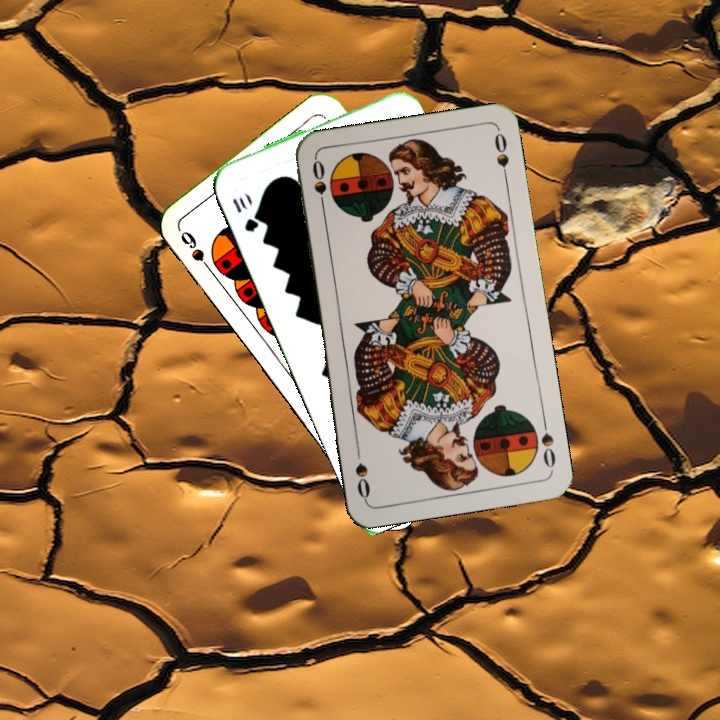G10: (228, 191, 262, 235)
S9: (176, 226, 217, 277)
SO: (308, 156, 329, 215), (537, 414, 558, 473)
